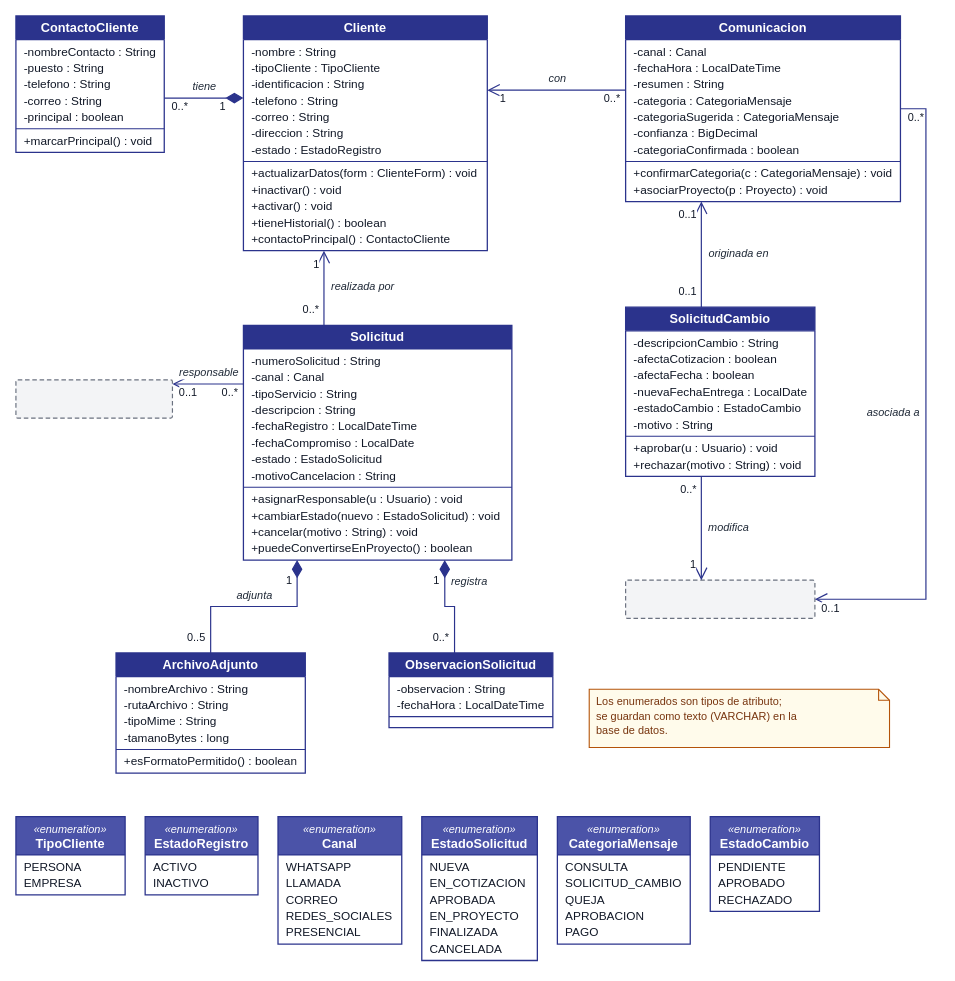
This 955x981 diagram has some shape labels left out. Each missing label, with the centre of its shape:
"«ver diagrama de proyectos» Proyecto" goes at point (720, 599).
"«ver diagrama de seguridad» Usuario" goes at point (94, 398).
